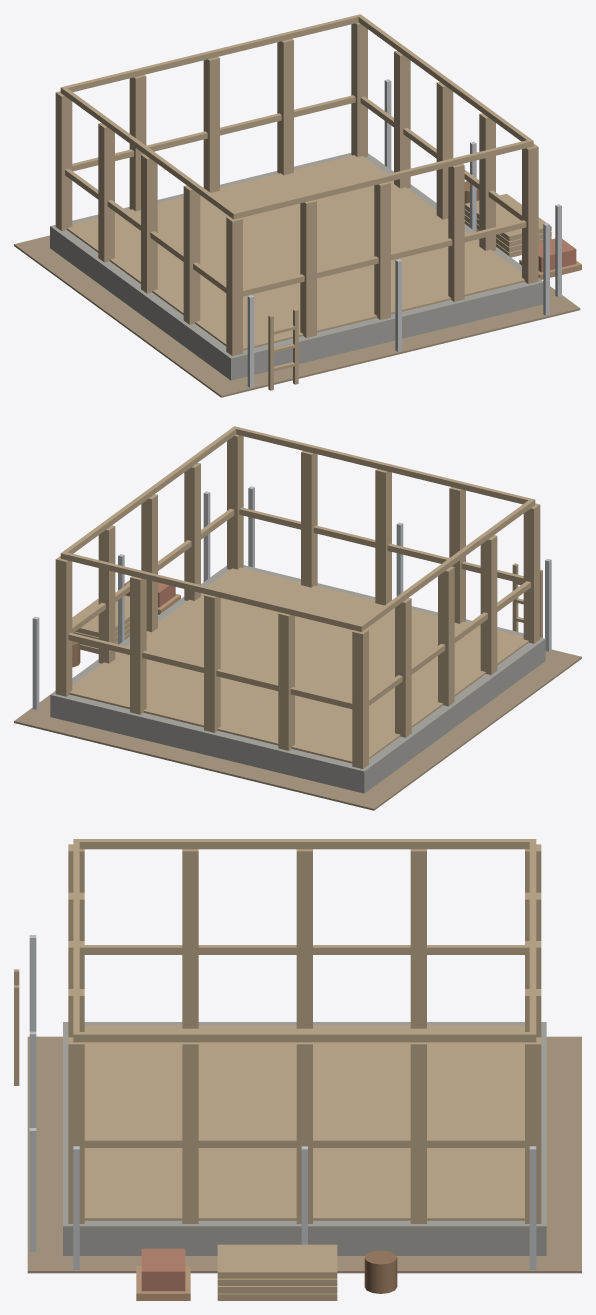
File: spa_site_4.glb
3 views of the same model, one above another, from view 1: azimuth 30°, elevation 25°; view 2: azimuth 150°, elevation 25°; view 3: azimuth 270°, elevation 25° (orthographic). The views are drawn at different scales.
Parts seen in each view (by area): view 1: body; view 2: body; view 3: body.
Boxes of the visible parts, left/top/right/bottom form: body: left=14, top=14, right=581, bottom=397; body: left=14, top=426, right=581, bottom=810; body: left=14, top=839, right=581, bottom=1300.
Bounding box in the file's own units: 2.28 × 0.89 × 2.09.
